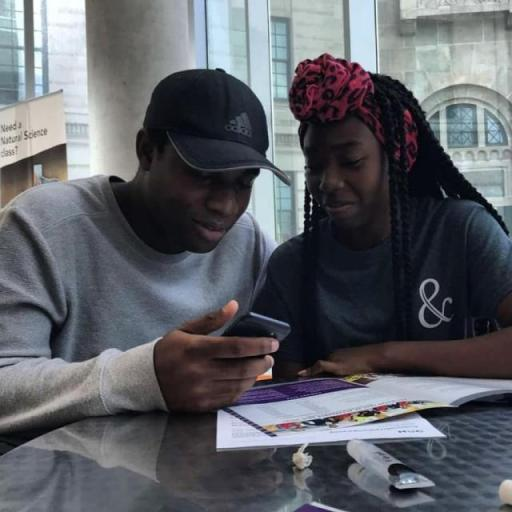Adidas: (221, 108, 254, 140)
